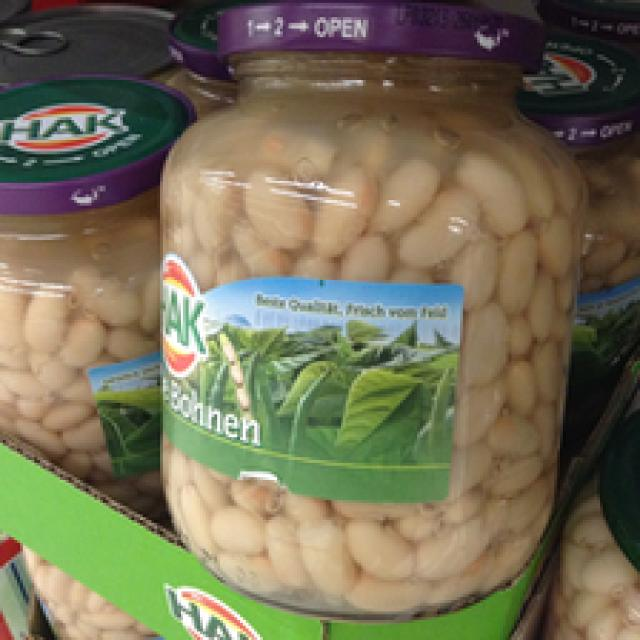groceries: (160, 3, 569, 588), (0, 77, 163, 509)
